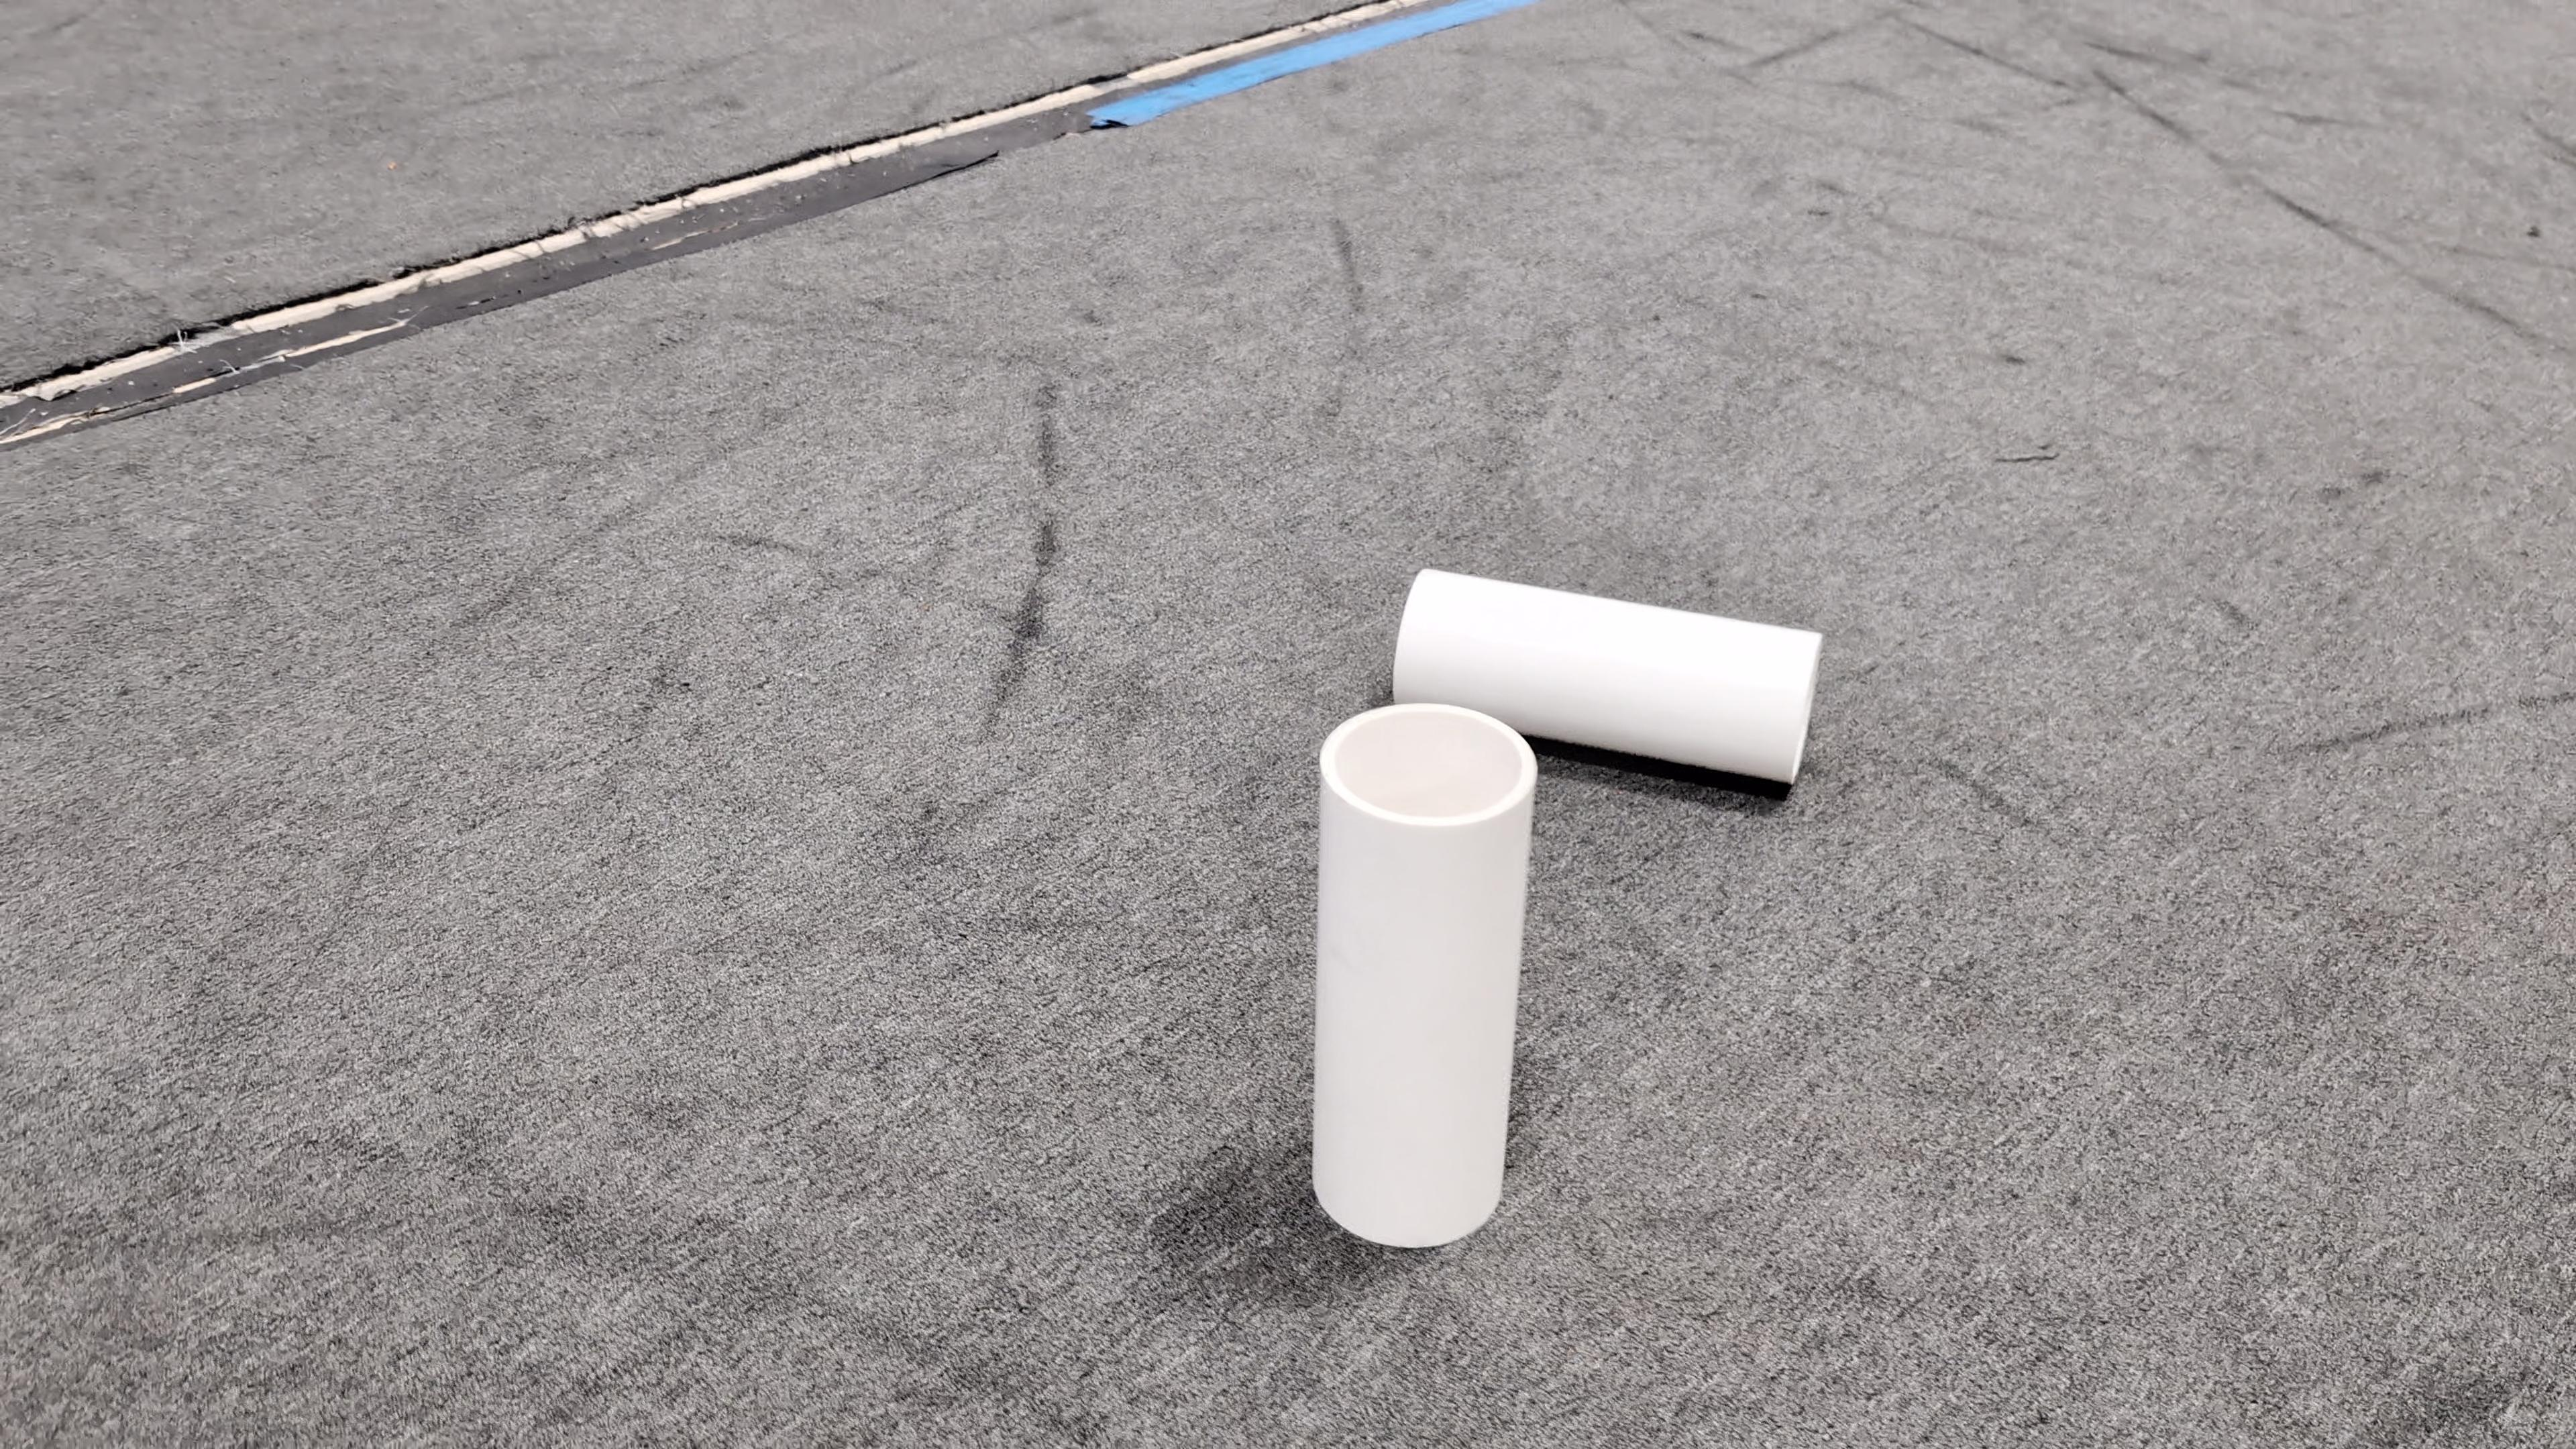coral: (1304, 702, 1543, 1247), (1396, 566, 1821, 784)
